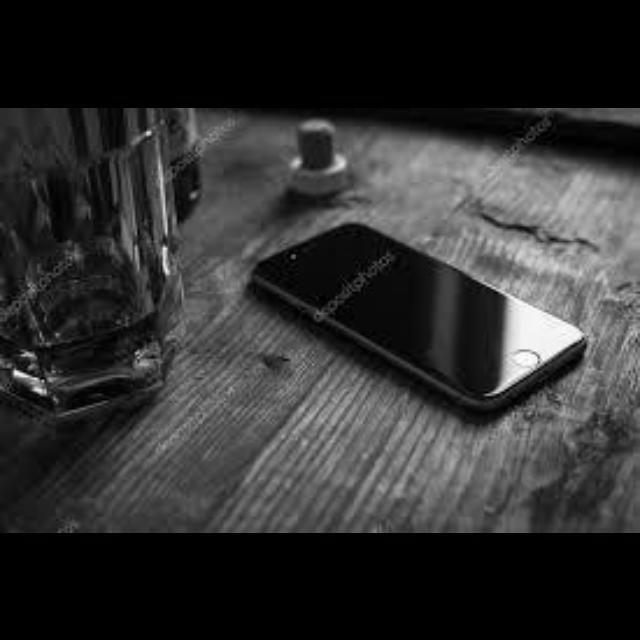fake: (234, 192, 616, 432)
